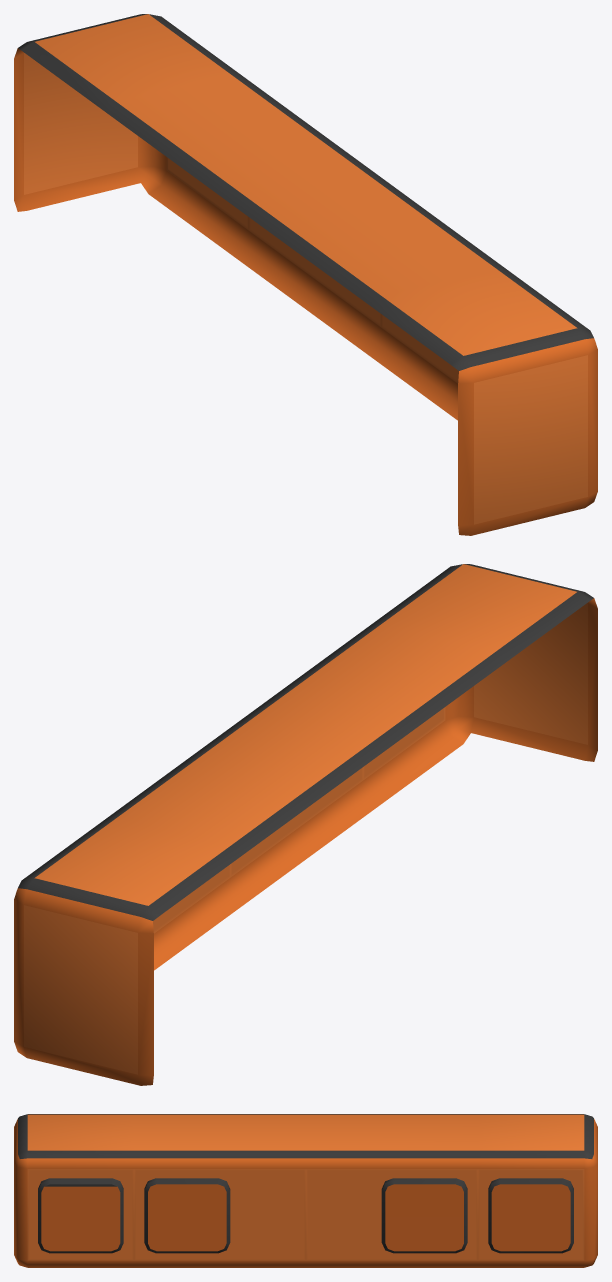
Rendered from Office Table.fbx.
The picture shows the model from 3 angles, top to bottom: view 1: azimuth 30°, elevation 25°; view 2: azimuth 150°, elevation 25°; view 3: azimuth 270°, elevation 25°; orthographic projection. The views are drawn at different scales.
Parts seen in each view (by area): view 1: Office Table; view 2: Office Table; view 3: Office Table.
Boxes of the visible parts, x1,y1,x2,y2 form: Office Table: (14,14,597,535); Office Table: (14,564,597,1085); Office Table: (14,1114,597,1267).
Bounding box in the file's own units: 5.74 × 6.4 × 28.98.
